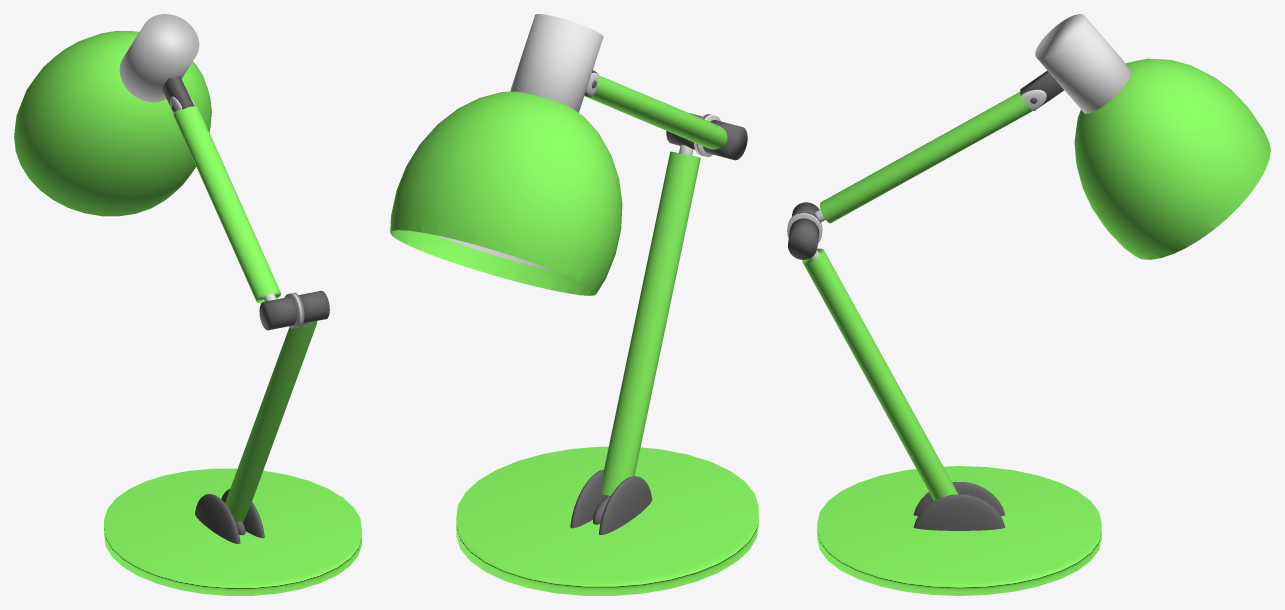
File: LampeBureauVerte.dae
3 renders of one model, left to right at view 1: azimuth 30°, elevation 25°; view 2: azimuth 150°, elevation 25°; view 3: azimuth 270°, elevation 25°, orthographic. The views are drawn at different scales.
Parts seen in each view (by area): view 1: DisqueSupport, AbatJour, Bras01.001, Bras01, Cylinder, DisqueLevier.001, ArticulationBras.002, ArticulationBras.001, Cube, DisqueLevier; view 2: AbatJour, DisqueSupport, Bras01, Cylinder, Bras01.001, DisqueLevier.001, DisqueLevier, ArticulationBras.002; view 3: AbatJour, DisqueSupport, Bras01, Cylinder, Bras01.001, DisqueLevier, ArticulationBras.001, DisqueLevier.001, Cube.
Boxes of the visible parts, box(x1,y1,x2,y2) form: DisqueSupport: box(104, 468, 361, 595); AbatJour: box(14, 31, 211, 216); Bras01.001: box(173, 105, 280, 303); Bras01: box(225, 321, 317, 522); Cylinder: box(119, 14, 199, 102); DisqueLevier.001: box(195, 493, 240, 543); ArticulationBras.002: box(259, 297, 296, 330); ArticulationBras.001: box(299, 290, 329, 323); Cube: box(162, 76, 193, 109); DisqueLevier: box(221, 488, 264, 538); AbatJour: box(390, 91, 622, 295); DisqueSupport: box(456, 446, 758, 595); Bras01: box(602, 151, 700, 495); Cylinder: box(510, 14, 603, 112); Bras01.001: box(584, 75, 727, 149); DisqueLevier.001: box(599, 476, 652, 534); DisqueLevier: box(570, 469, 607, 528); ArticulationBras.002: box(703, 120, 747, 160); AbatJour: box(1074, 58, 1270, 259); DisqueSupport: box(817, 466, 1101, 595); Bras01: box(802, 248, 958, 500); Cylinder: box(1035, 14, 1131, 113); Bras01.001: box(820, 92, 1032, 223); DisqueLevier: box(913, 494, 1004, 530); ArticulationBras.001: box(788, 218, 819, 259); DisqueLevier.001: box(913, 482, 1005, 516); Cube: box(1020, 70, 1064, 110).
Size of the model in its own units: 4.48 by 8.06 by 9.43.
